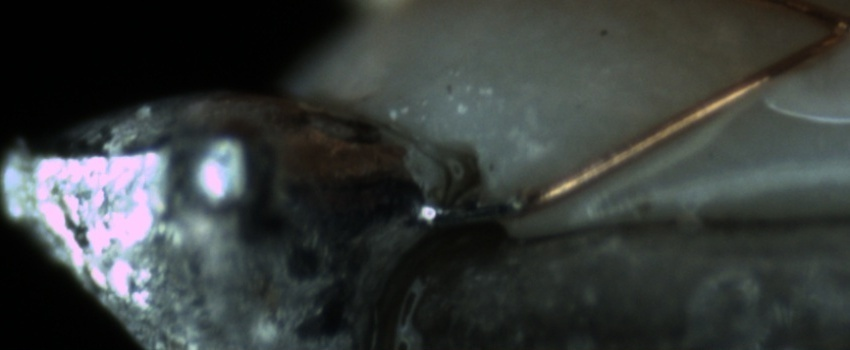CL: (802, 2, 850, 61)
TS: (442, 197, 521, 225)
